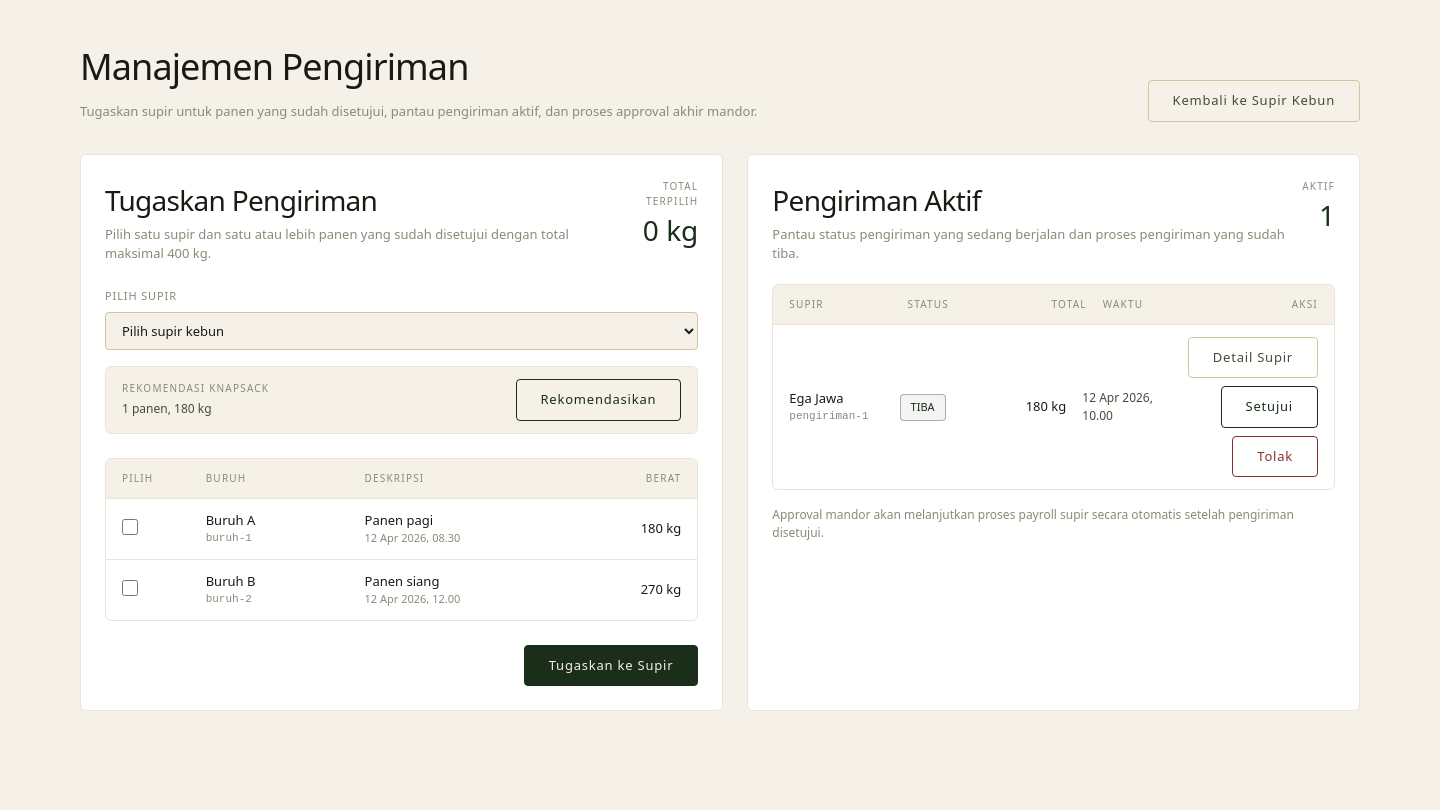
Test: MandorPengirimanPage › blocks assignment when total selected weight exceeds 400 kg
Select "Ega Jawa (ega)" in the dropdown showing "pilih supir kebun" at (402, 331), box top-left (105, 312), bottom-right (698, 350)
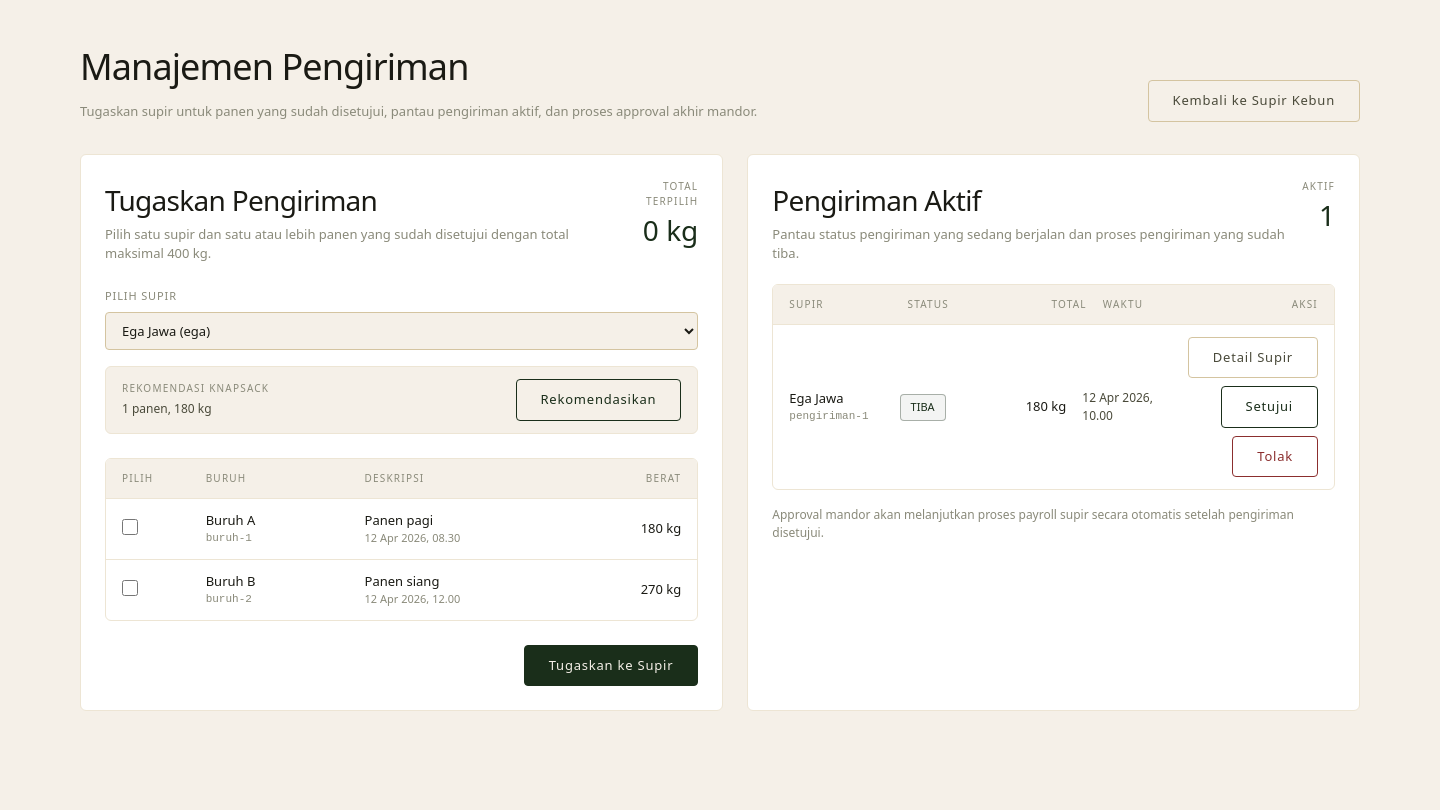
Click the checkbox labelled "Buruh A buruh-1 Panen pagi 12 Apr 2026, 08.30 180 kg".
click(130, 526)  # box top-left (122, 518), bottom-right (138, 534)
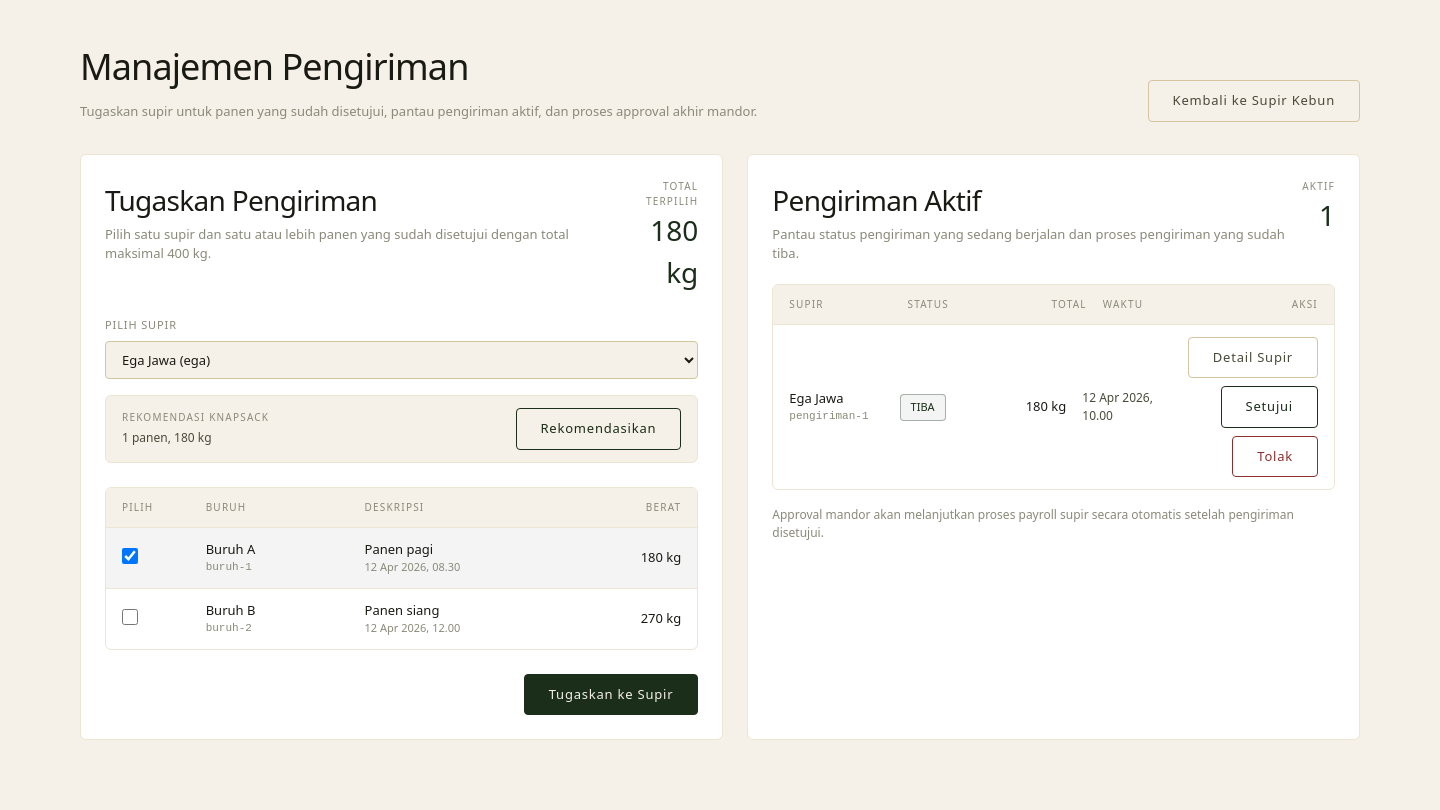
Click the checkbox labelled "Buruh B buruh-2 Panen siang 12 Apr 2026, 12.00 270 kg".
click(130, 616)  # box top-left (122, 608), bottom-right (138, 624)
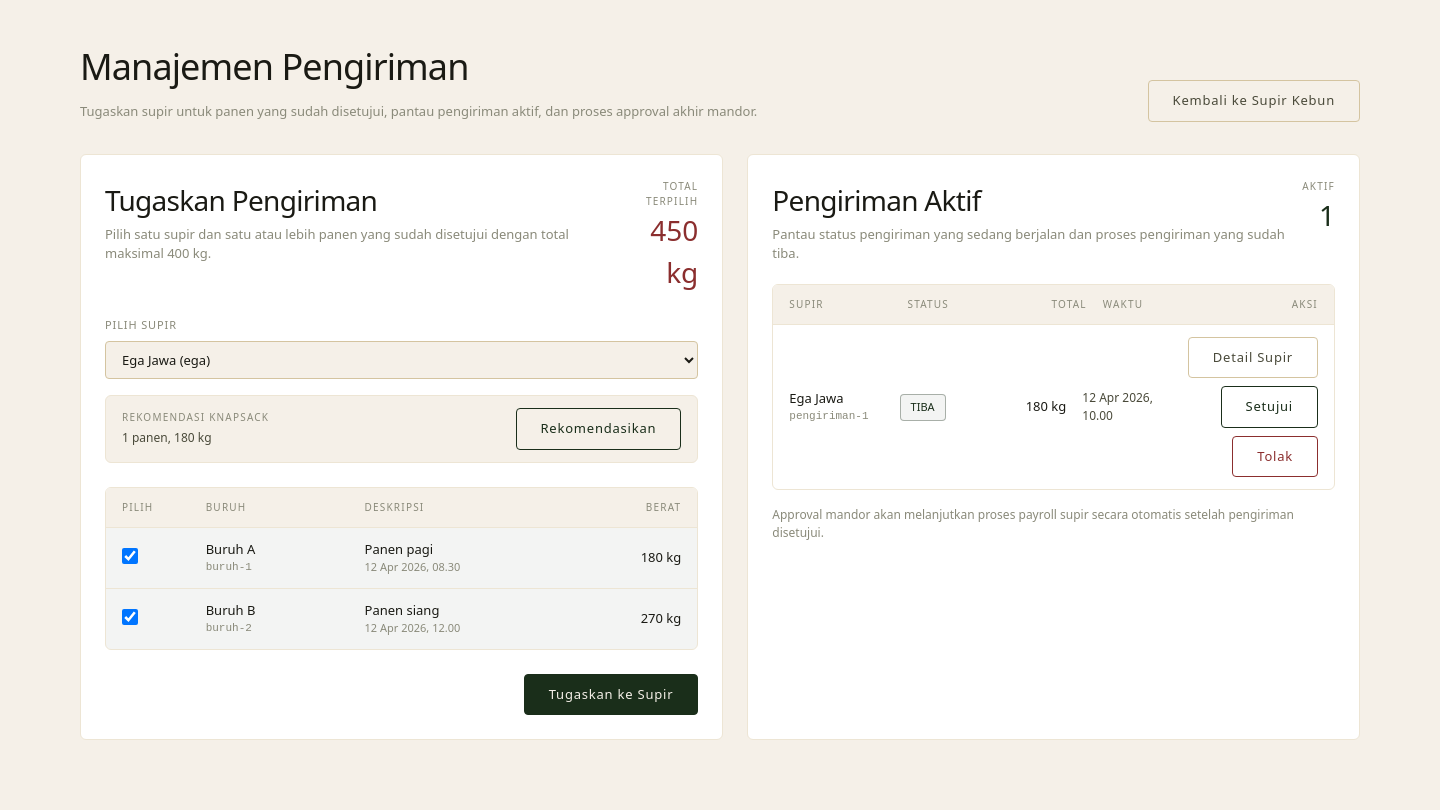
Click the button "Tugaskan ke Supir".
click(611, 694)  # box top-left (524, 674), bottom-right (698, 715)
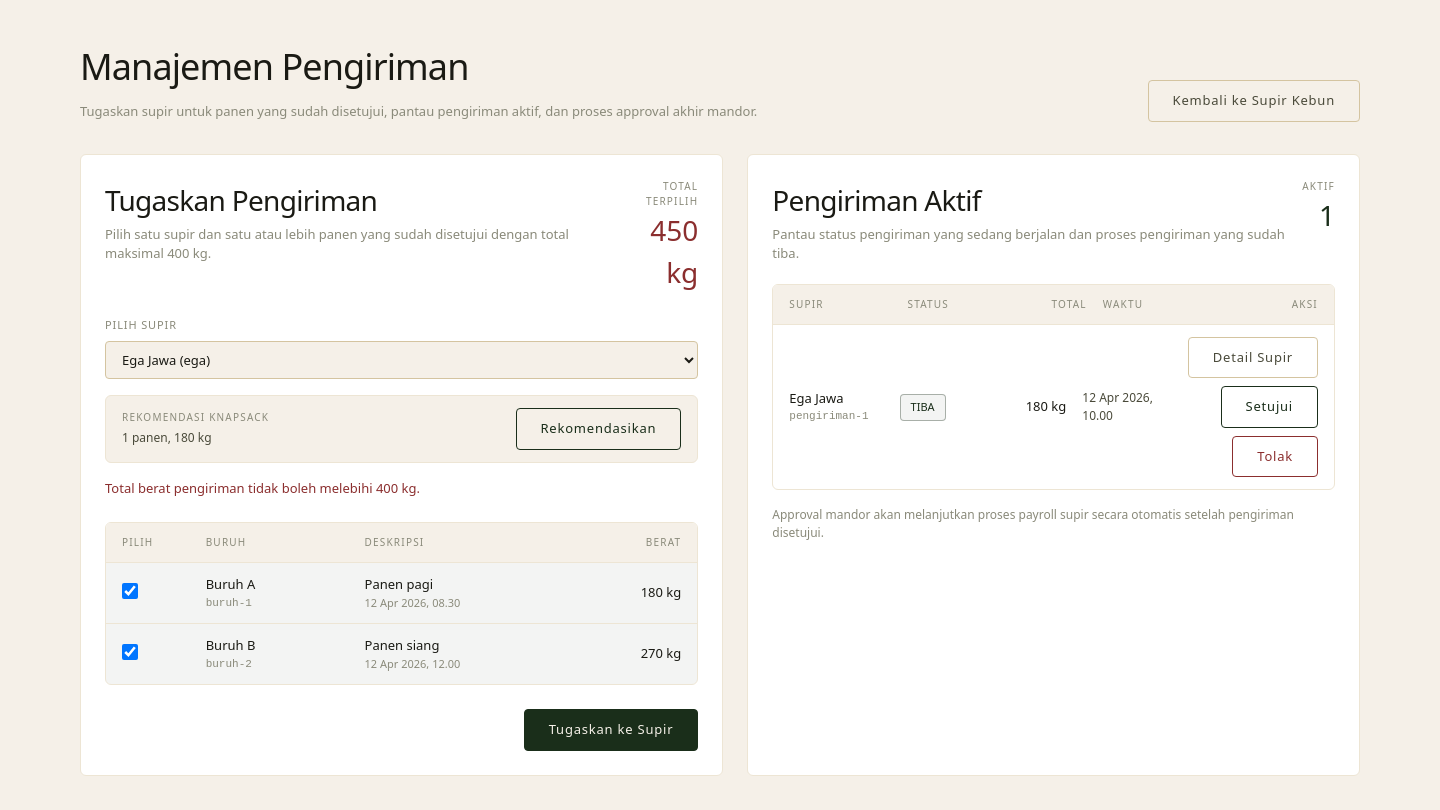
Expected: the text "Total berat pengiriman tidak boleh melebihi 400 kg." is shown, top-left (105, 478), bottom-right (420, 496)
